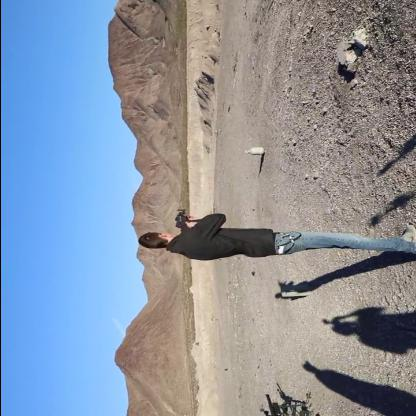long weapon: (168, 206, 212, 238)
